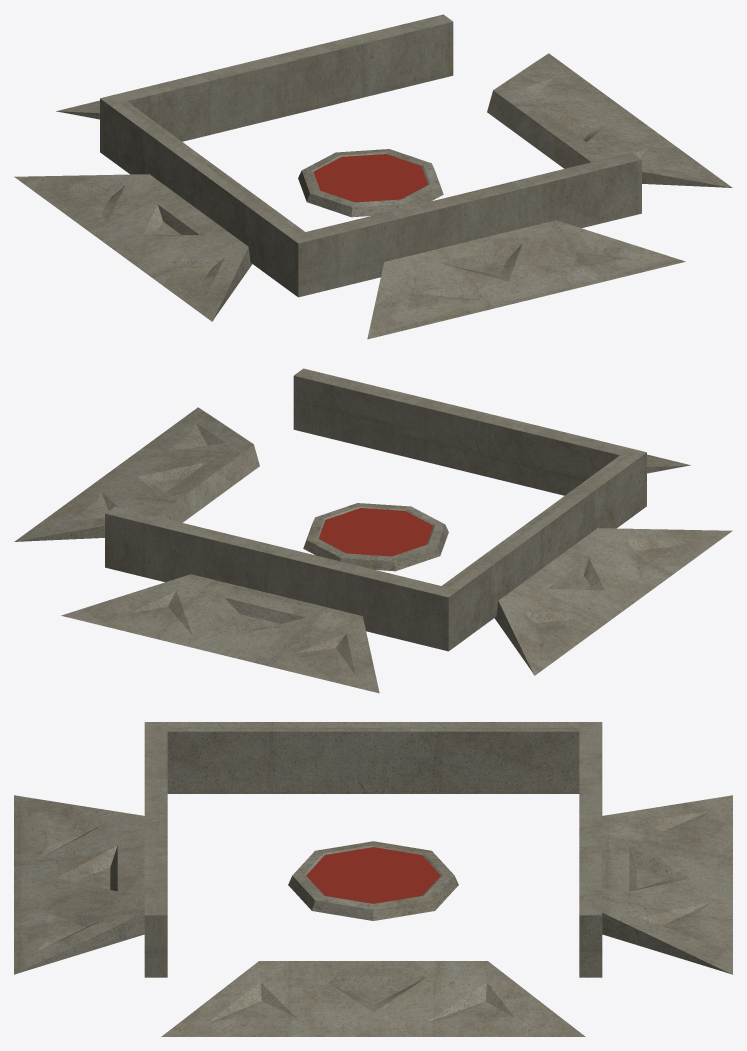
File: xTraUrgent Outside.glb
3 renders of one model, top to bottom at view 1: azimuth 30°, elevation 25°; view 2: azimuth 150°, elevation 25°; view 3: azimuth 270°, elevation 25°, orthographic. The views are drawn at different scales.
Parts seen in each view (by area): view 1: square-col, outside1-col, outside2-col; view 2: square-col, outside1-col, outside2-col; view 3: square-col, outside1-col, outside2-col.
Boxes of the visible parts, x1=… form: square-col: x1=14, y1=53, x2=732, y2=339; outside1-col: x1=100, y1=17, x2=641, y2=296; outside2-col: x1=100, y1=14, x2=641, y2=297; square-col: x1=14, y1=407, x2=732, y2=693; outside1-col: x1=105, y1=369, x2=646, y2=651; outside2-col: x1=105, y1=368, x2=646, y2=650; square-col: x1=14, y1=795, x2=732, y2=1036; outside1-col: x1=144, y1=722, x2=602, y2=977; outside2-col: x1=144, y1=722, x2=602, y2=977.
Bounding box in the file's own units: 15.36 × 1.6 × 15.71.
2 materials, 1 textured.
